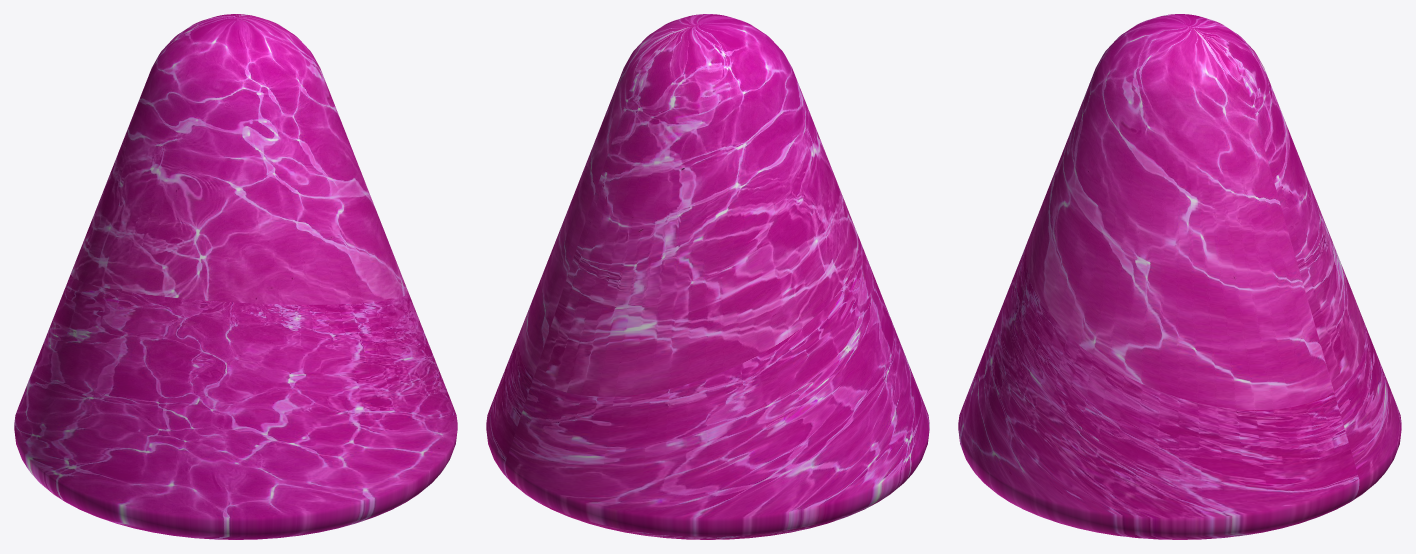
The model's file is pink.fbx.
The picture shows the model from 3 angles, left to right: view 1: azimuth 30°, elevation 25°; view 2: azimuth 150°, elevation 25°; view 3: azimuth 270°, elevation 25°; orthographic projection.
Parts seen in each view (by area): view 1: Cylinder; view 2: Cylinder; view 3: Cylinder.
Boxes of the visible parts, left/top/right/bottom form: Cylinder: left=14, top=14, right=457, bottom=539; Cylinder: left=486, top=14, right=929, bottom=539; Cylinder: left=958, top=14, right=1401, bottom=539.
Size of the model in its own units: 331 by 357 by 331.
